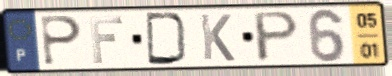6: (307, 7, 346, 65)
D: (143, 11, 191, 67)
F: (87, 15, 125, 65)
K: (197, 12, 237, 63)
P: (252, 9, 302, 64), (39, 14, 84, 68)
